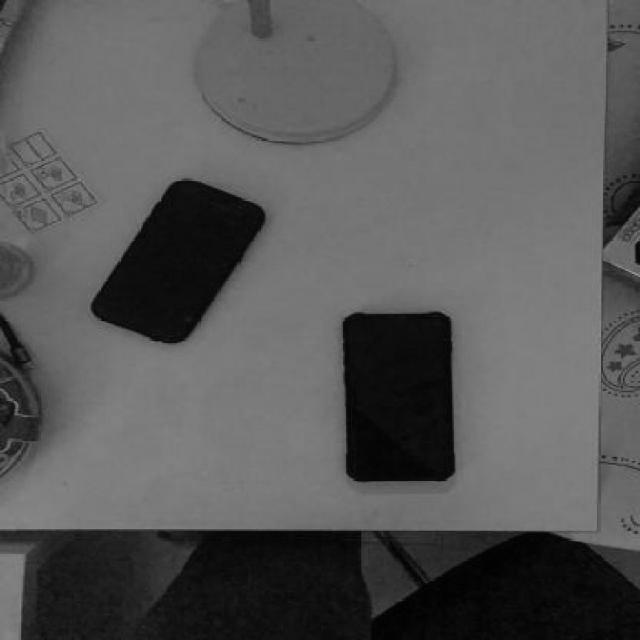fake: (88, 177, 270, 345), (338, 312, 460, 480)
